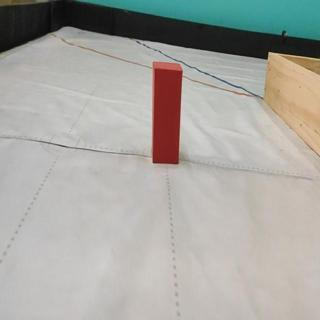redbox: (152, 58, 183, 165)
